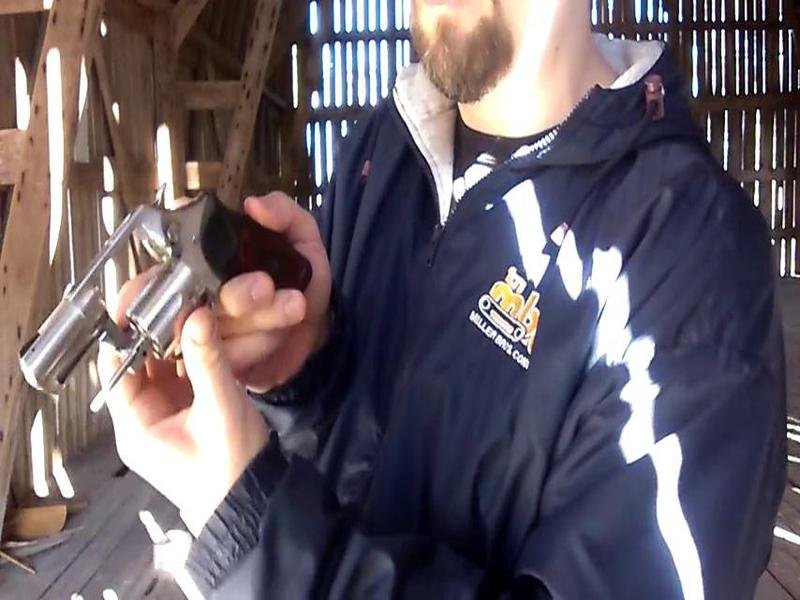Revolver: (17, 184, 312, 414)
